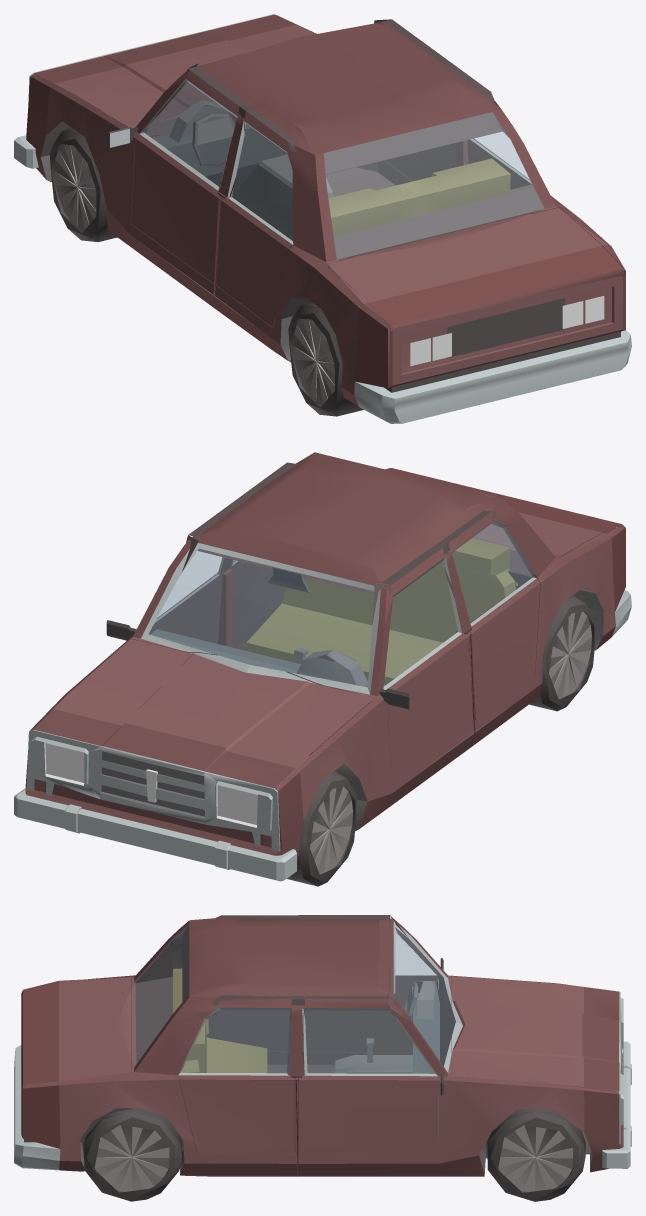
Rendered from sedan.glb.
3 renders of one model, top to bottom at view 1: azimuth 30°, elevation 25°; view 2: azimuth 150°, elevation 25°; view 3: azimuth 270°, elevation 25°, orthographic. The views are drawn at different scales.
Parts seen in each view (by area): view 1: Body, Glass_Rear, Lid_Trunk, Lid_Hood, Bumper_R, Door_FL, Door_RL, Inside, Glass_FL, Wheel_RL, Wheel_FL, Glass_RL (+7 smaller); view 2: Body, Lid_Hood, Glass_Front, Door_FL, Bumper_F, Door_RL, Glass_FL, Wheel_FL, Wheel_RL, Glass_RL, Lid_Trunk, Door_RR (+3 smaller); view 3: Body, Lid_Hood, Door_FR, Lid_Trunk, Door_RR, Wheel_FR, Wheel_RR, Glass_FR, Glass_RR, Door_FL, Glass_Front, Glass_Rear (+5 smaller).
Boxes of the visible parts, x1,y1,x2,y2 form: Body: (26, 14, 625, 406); Glass_Rear: (324, 112, 544, 259); Lid_Trunk: (326, 207, 624, 331); Lid_Hood: (33, 14, 315, 127); Bumper_R: (354, 330, 631, 423); Door_FL: (131, 84, 226, 283); Door_RL: (216, 188, 293, 327); Inside: (40, 77, 620, 392); Glass_FL: (144, 83, 236, 186); Wheel_RL: (288, 302, 363, 416); Wheel_FL: (49, 128, 117, 241); Glass_RL: (232, 124, 292, 240); Body: (25, 452, 625, 864); Lid_Hood: (32, 639, 373, 788); Glass_Front: (149, 549, 373, 686); Door_FL: (383, 580, 473, 781); Bumper_F: (14, 788, 296, 881); Door_RL: (470, 571, 540, 719); Glass_FL: (384, 561, 457, 685); Wheel_FL: (287, 771, 357, 886); Wheel_RL: (529, 596, 596, 711); Glass_RL: (452, 524, 532, 622); Lid_Trunk: (385, 468, 623, 557); Door_RR: (230, 559, 285, 648); Body: (21, 915, 623, 1176); Lid_Hood: (452, 976, 619, 1091); Door_FR: (299, 1013, 437, 1154); Lid_Trunk: (21, 977, 130, 1089); Door_RR: (178, 1047, 294, 1154); Wheel_FR: (486, 1109, 585, 1201); Wheel_RR: (82, 1108, 181, 1201); Glass_FR: (305, 1010, 434, 1073); Glass_RR: (181, 1010, 290, 1072); Door_FL: (303, 931, 437, 1051); Glass_Front: (395, 928, 455, 1065); Glass_Rear: (134, 925, 188, 1066).
Bounding box in the file's own units: 2.43 × 1.85 × 5.1.
